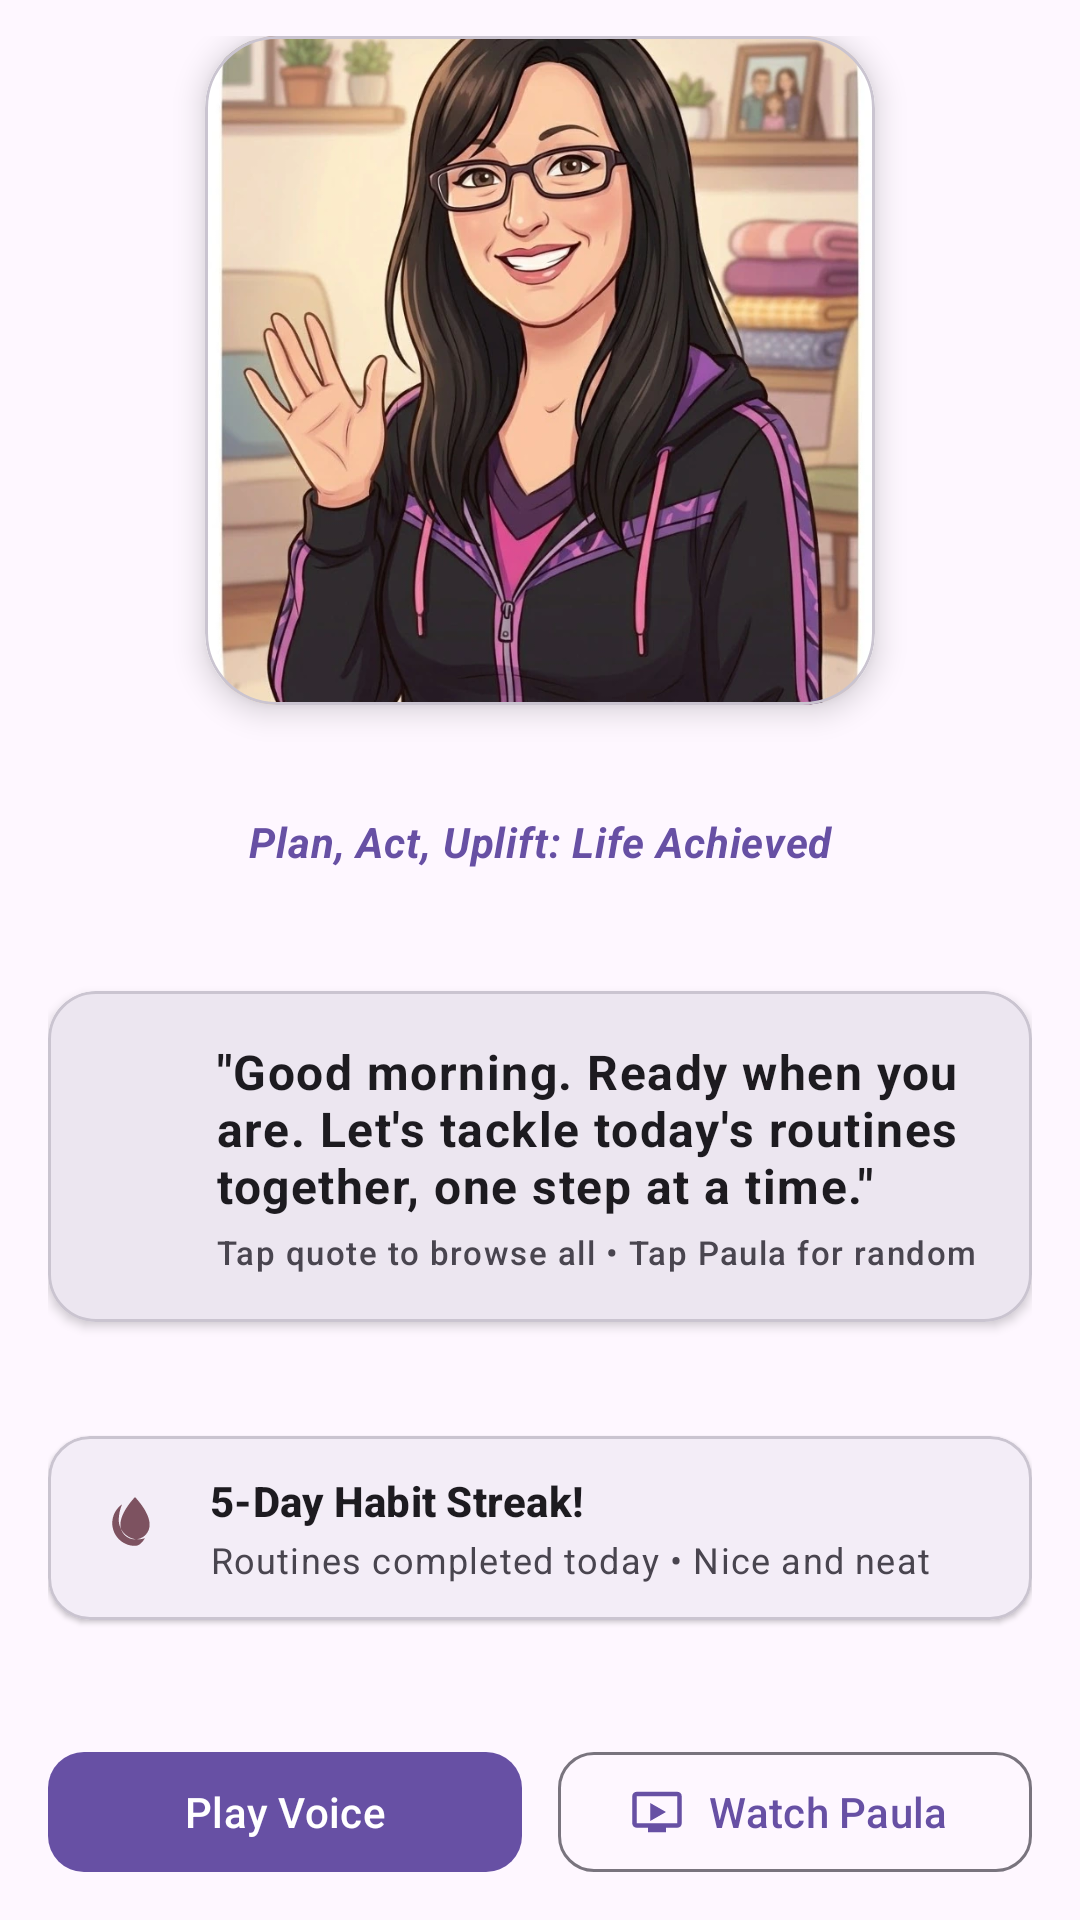

Screen size 1080×1920. Icon name, then its center in pixels as [x,y]:
Streak progress icon: [131,1521]
